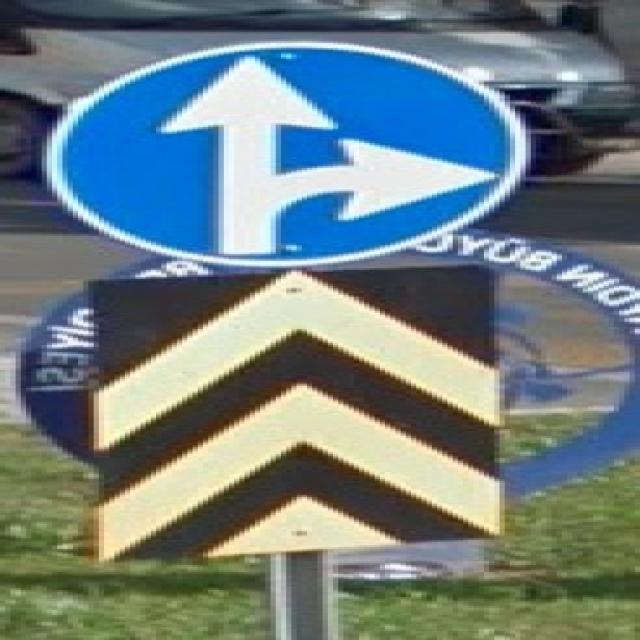Straight or Right: (37, 45, 511, 263)
